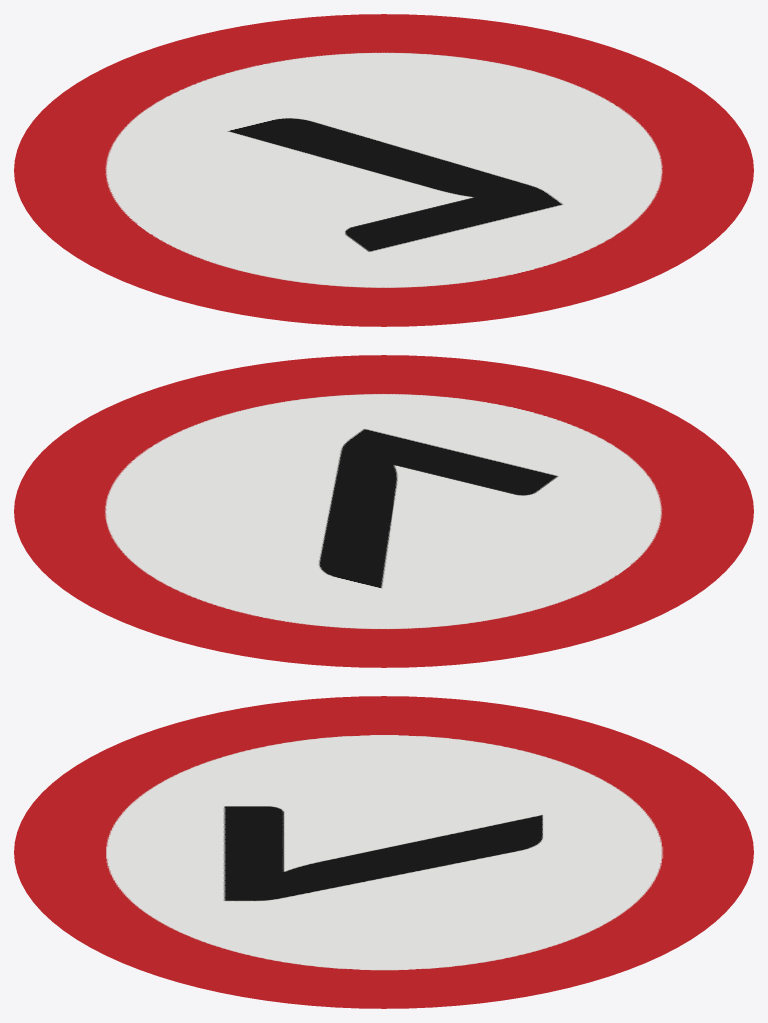
File: stage_07.obj
3 renders of one model, top to bottom at view 1: azimuth 30°, elevation 25°; view 2: azimuth 150°, elevation 25°; view 3: azimuth 270°, elevation 25°, orthographic.
Visible parts, largest first — view 1: stage_07; view 2: stage_07; view 3: stage_07.
Part boxes in pixels (bbox=[...]): stage_07: bbox=[14, 14, 753, 326]; stage_07: bbox=[14, 355, 753, 667]; stage_07: bbox=[14, 696, 753, 1008].
Size of the model in its own units: 0.6 by 0 by 0.6.
1 material, 1 textured.
